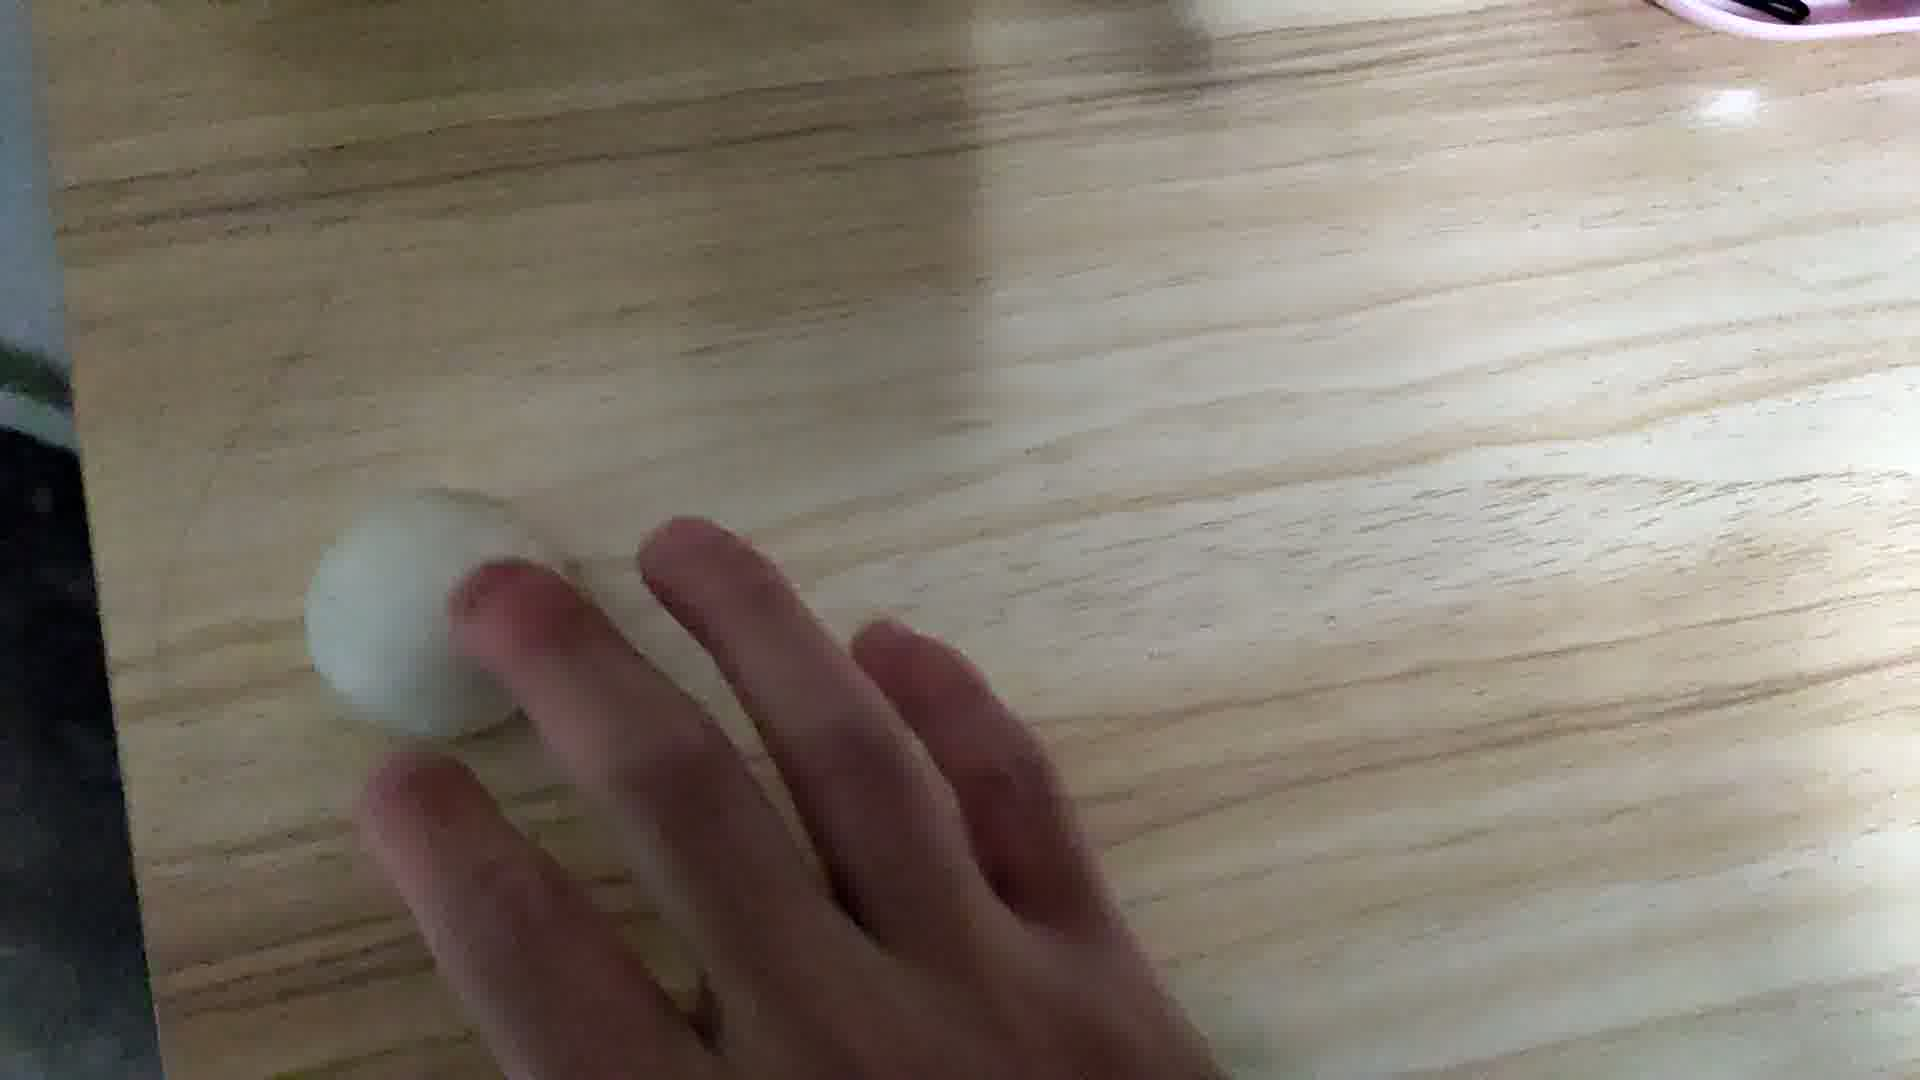Ball: (305, 487, 570, 742)
